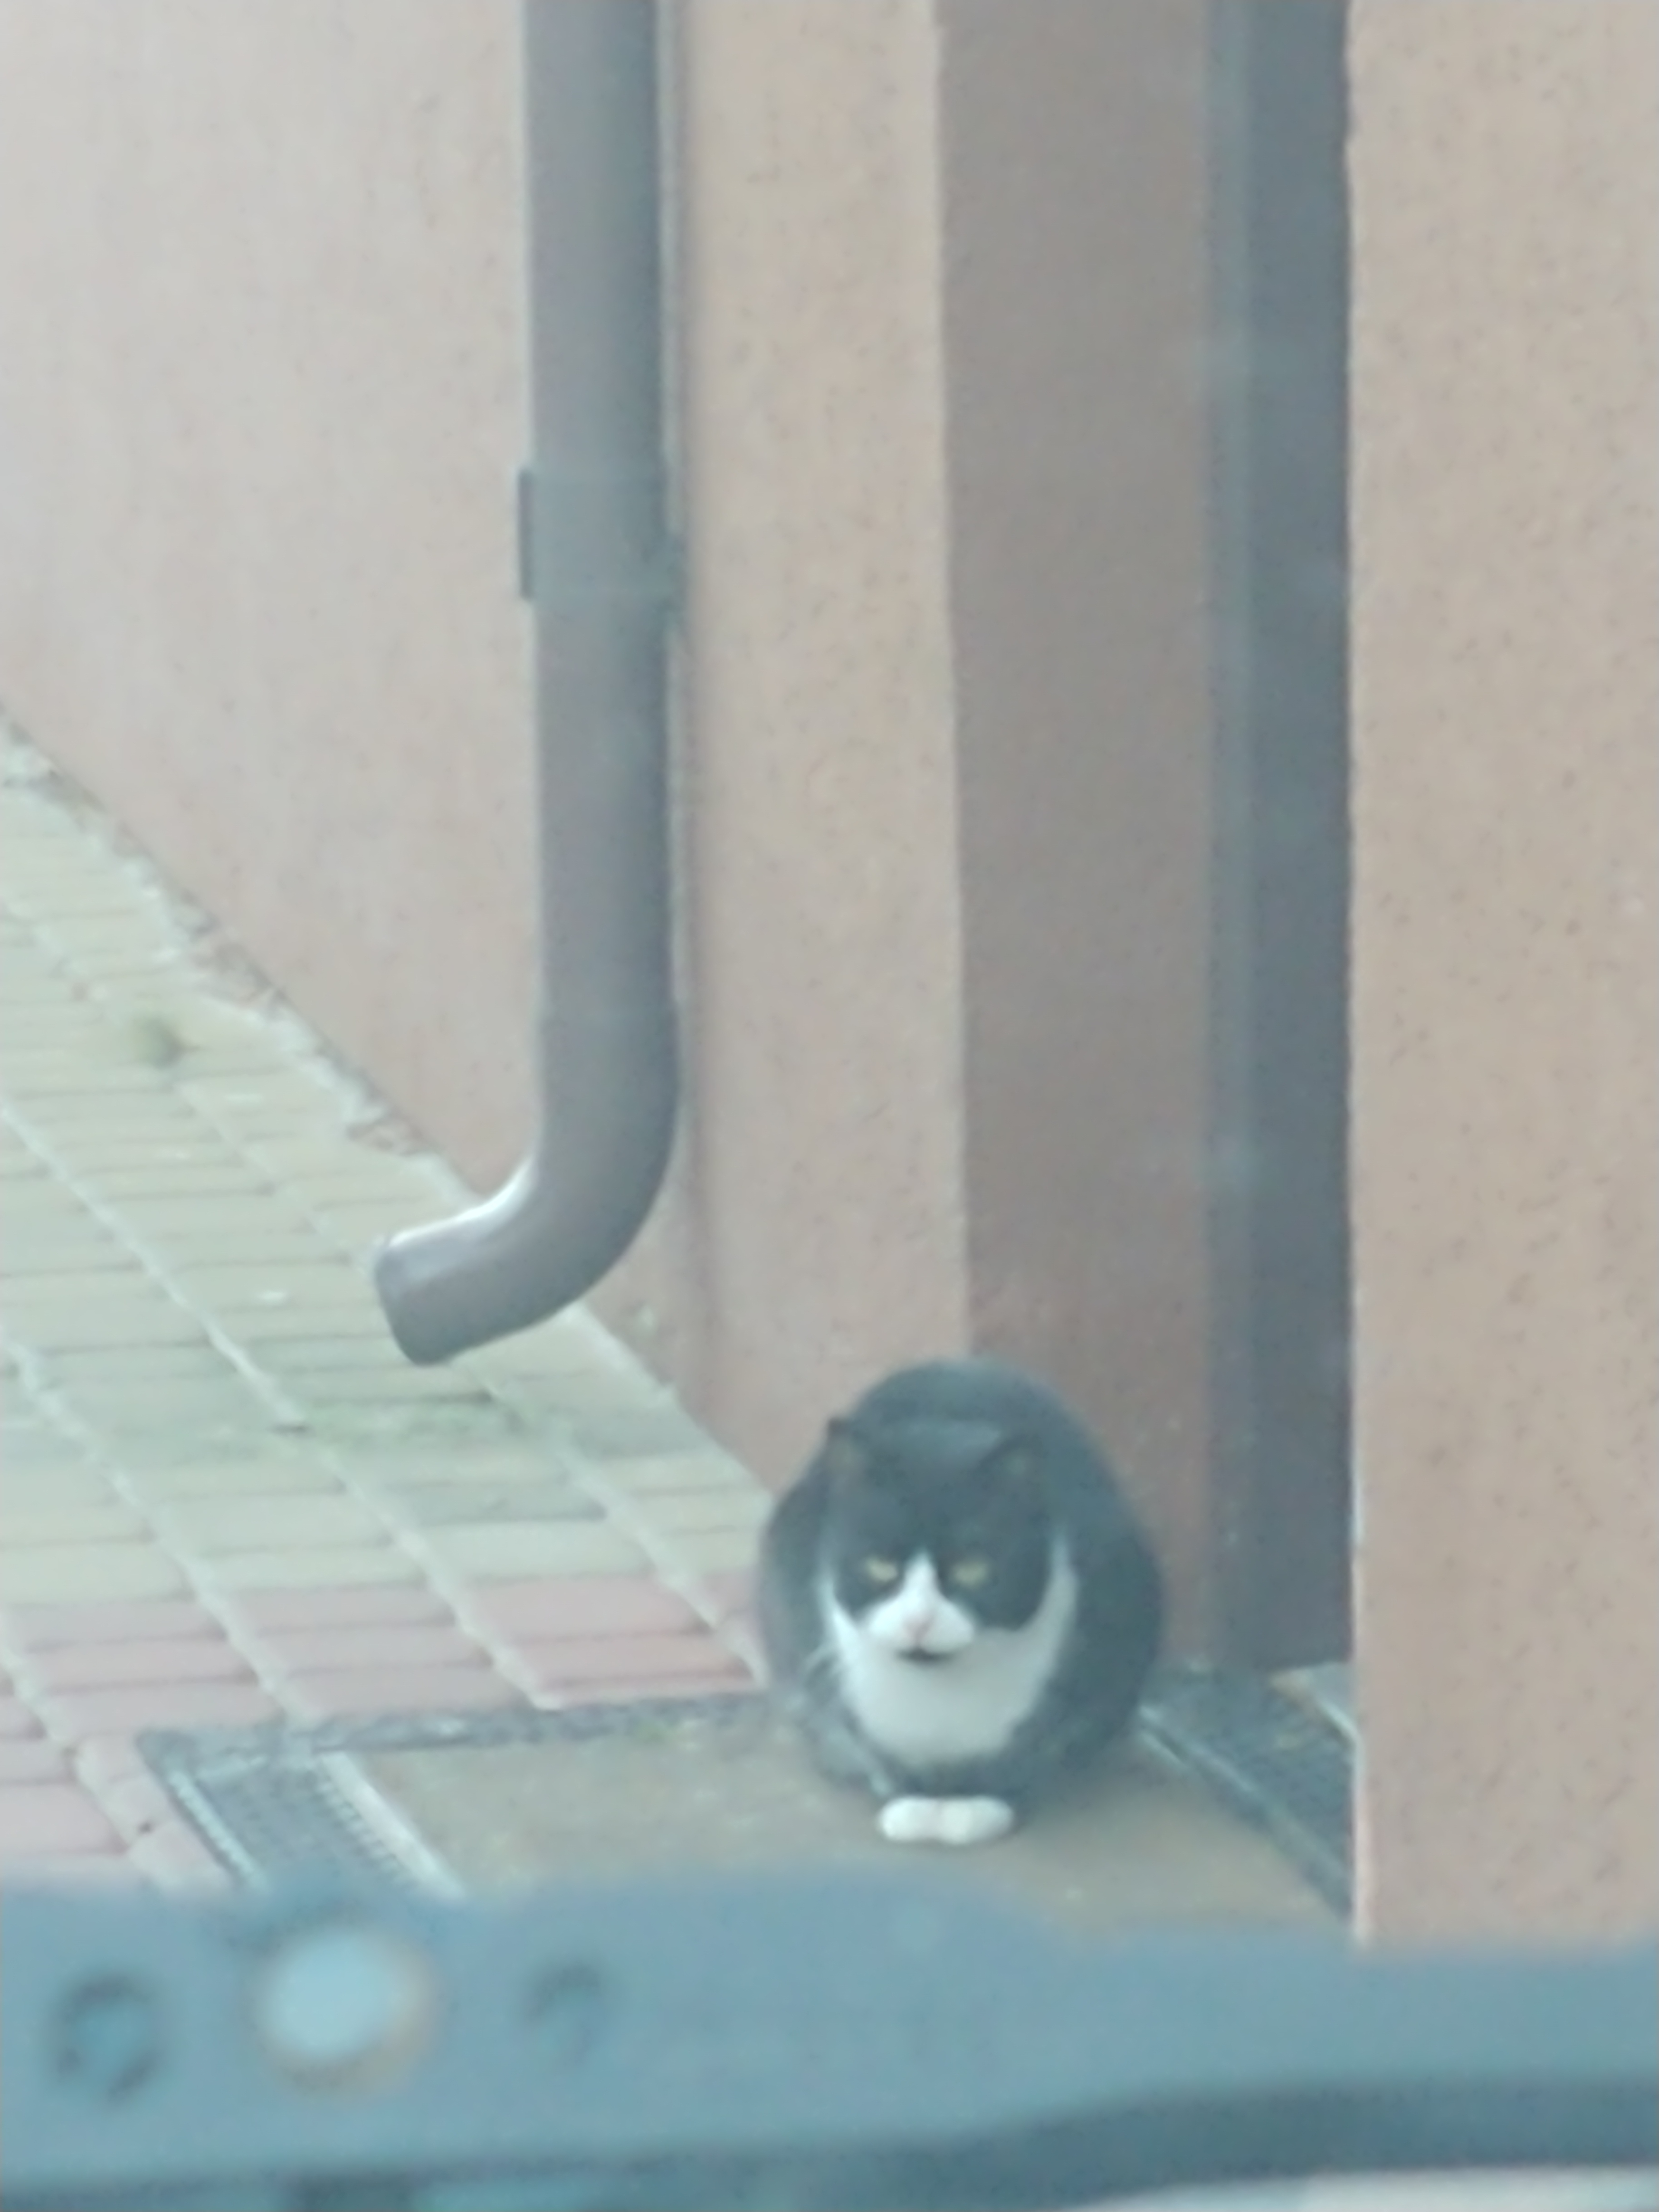cat: (716, 1287, 1227, 1905)
